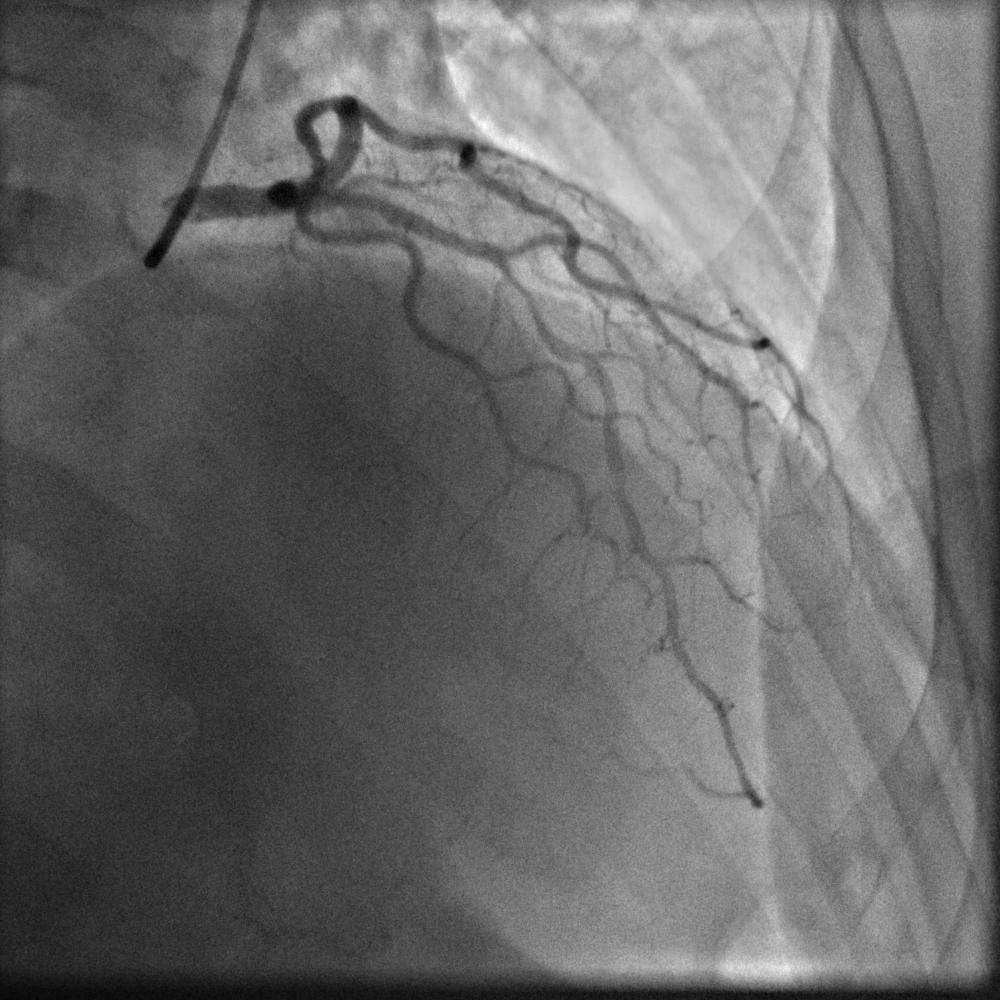Stenosis: (496, 261, 549, 330)
